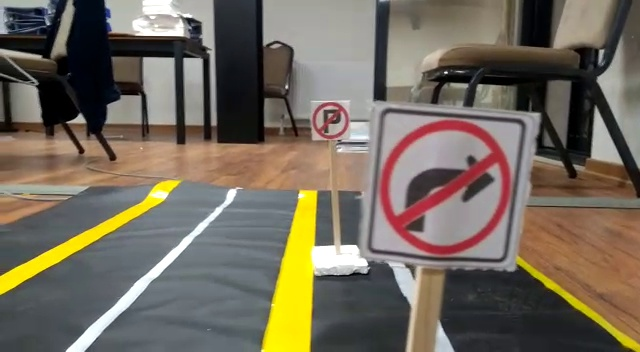park_yapilmaz: (312, 101, 350, 140)
saga_donulmez: (377, 116, 525, 258)
